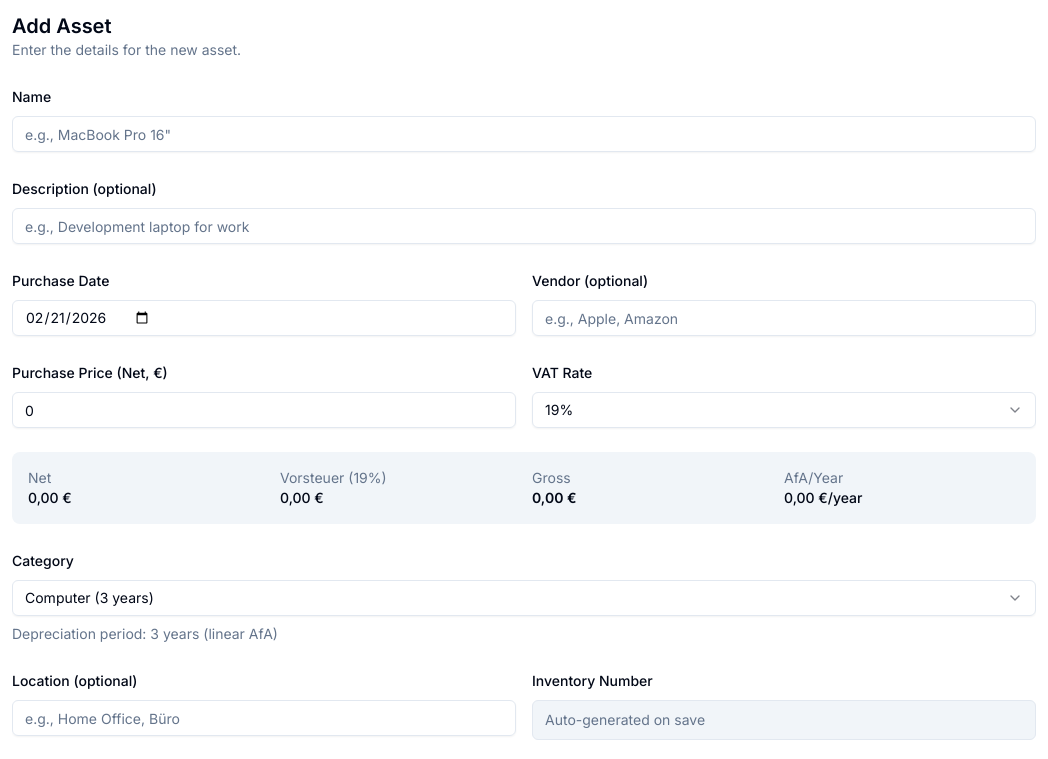
Test: AssetForm › VAT calculation › recalculates when VAT rate changes
Replace the text in the number field labelled "Purchase Price (Net, €)" with "1000": [264, 410] box 12,392 -> 516,428
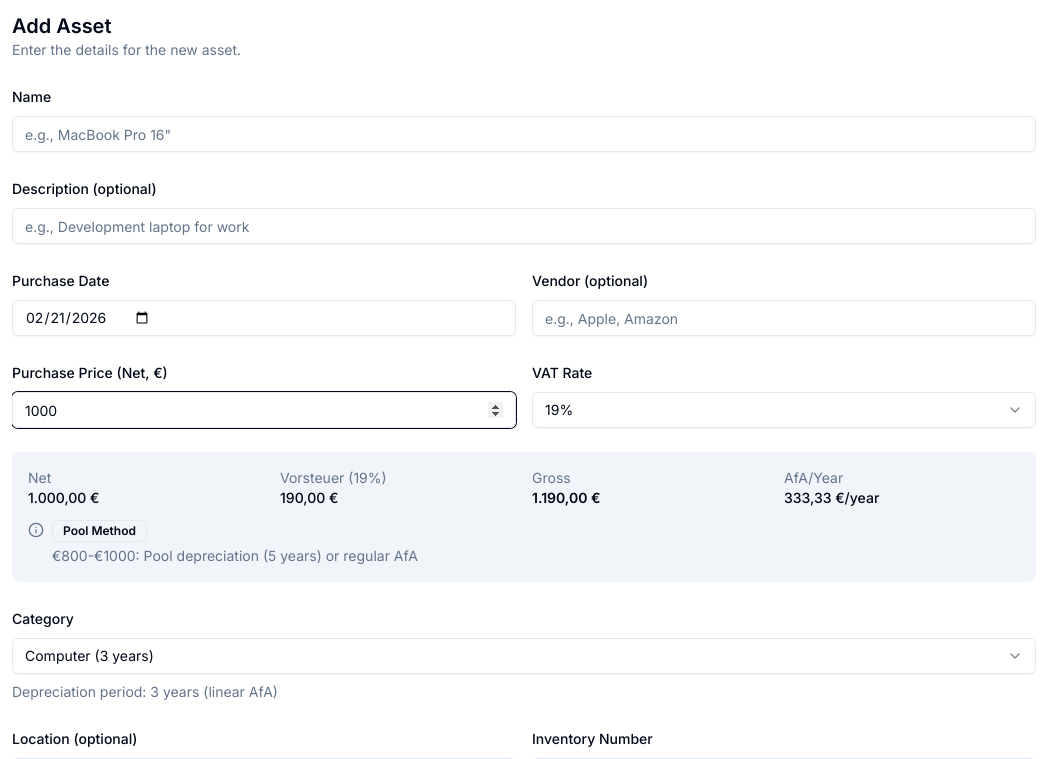
// Change VAT rate via Radix Select
Click the dropdown named "vat rate": [559, 410] box 532,392 -> 1036,428
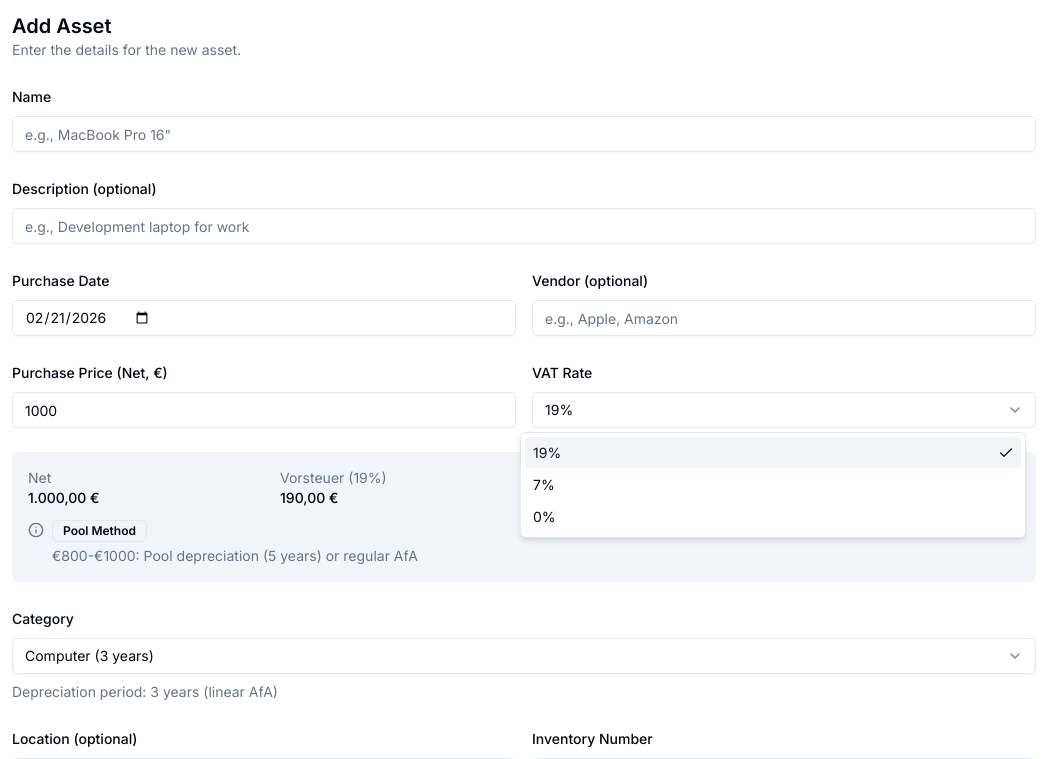
Click the option "7%": [544, 484] box 533,476 -> 555,493
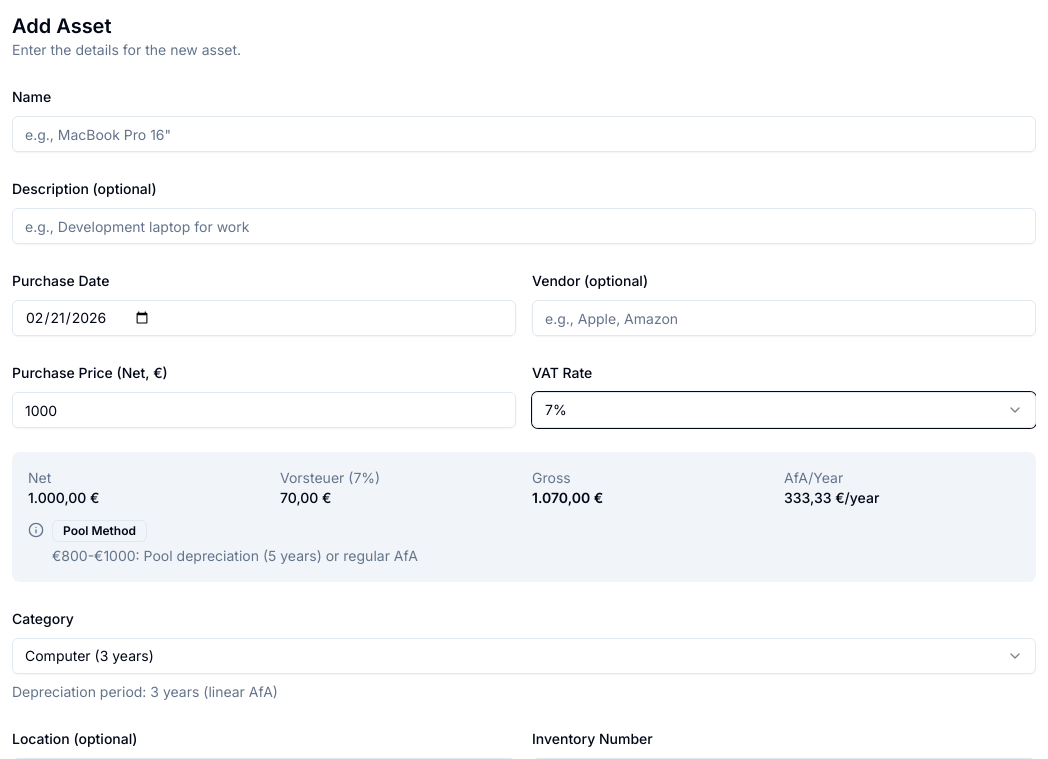
Expected: the text "70,00 €" is shown, 280,489 -> 332,506
Expected: the text "1.070,00 €" is shown, 532,489 -> 603,506
